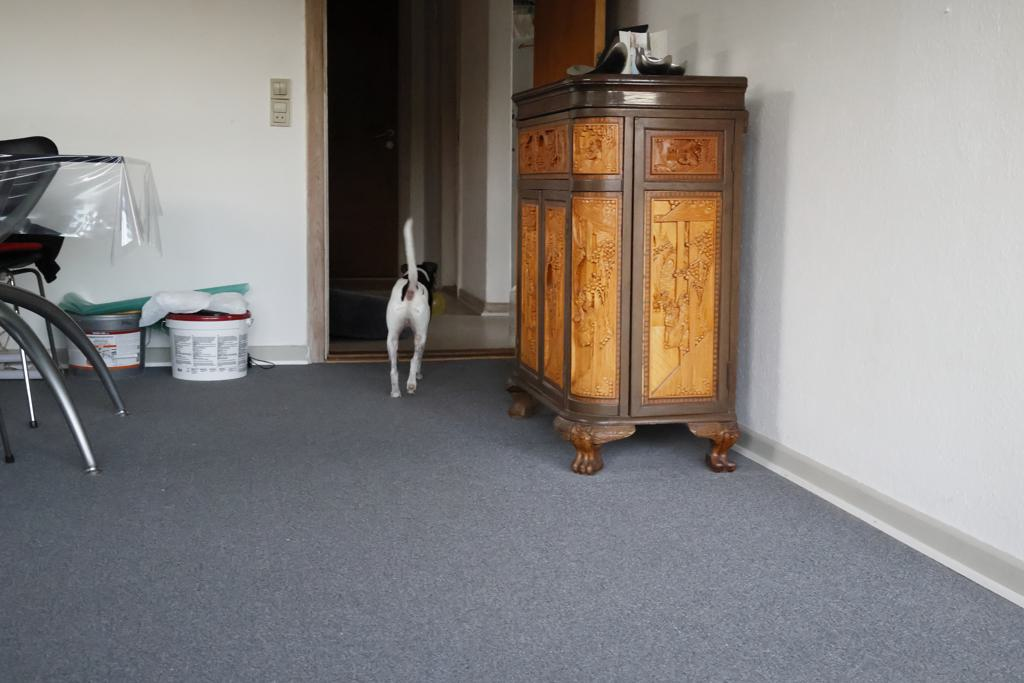Dog: (369, 207, 447, 409)
